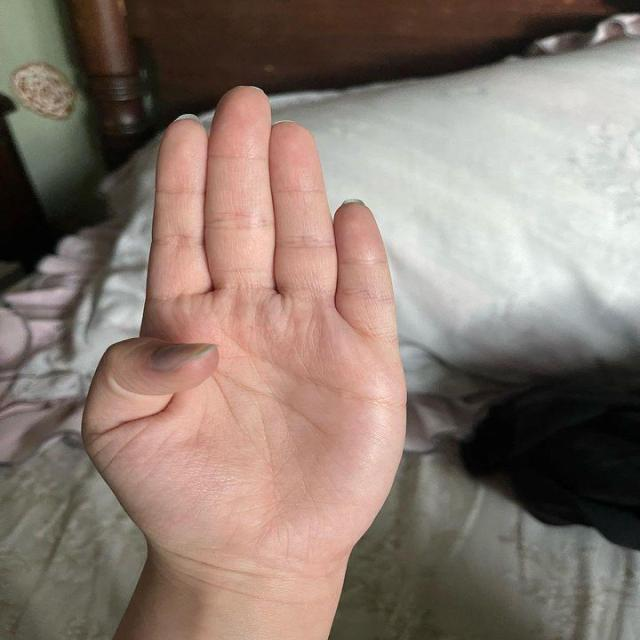B: (72, 78, 413, 566)
